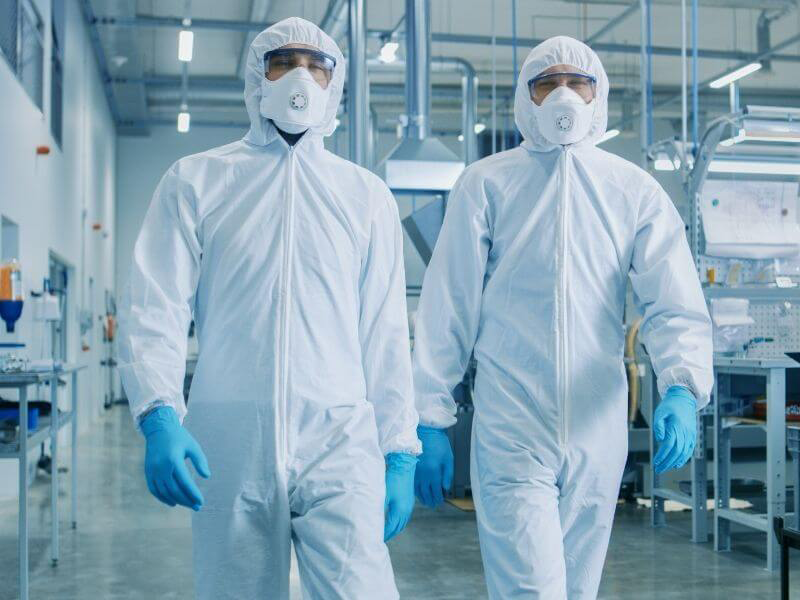Coverall: (417, 35, 720, 600), (129, 13, 409, 600)
Gloves: (136, 408, 215, 514), (648, 385, 702, 473), (376, 449, 415, 544), (417, 425, 460, 511)
with_mask: (260, 60, 333, 131), (532, 81, 595, 138)
